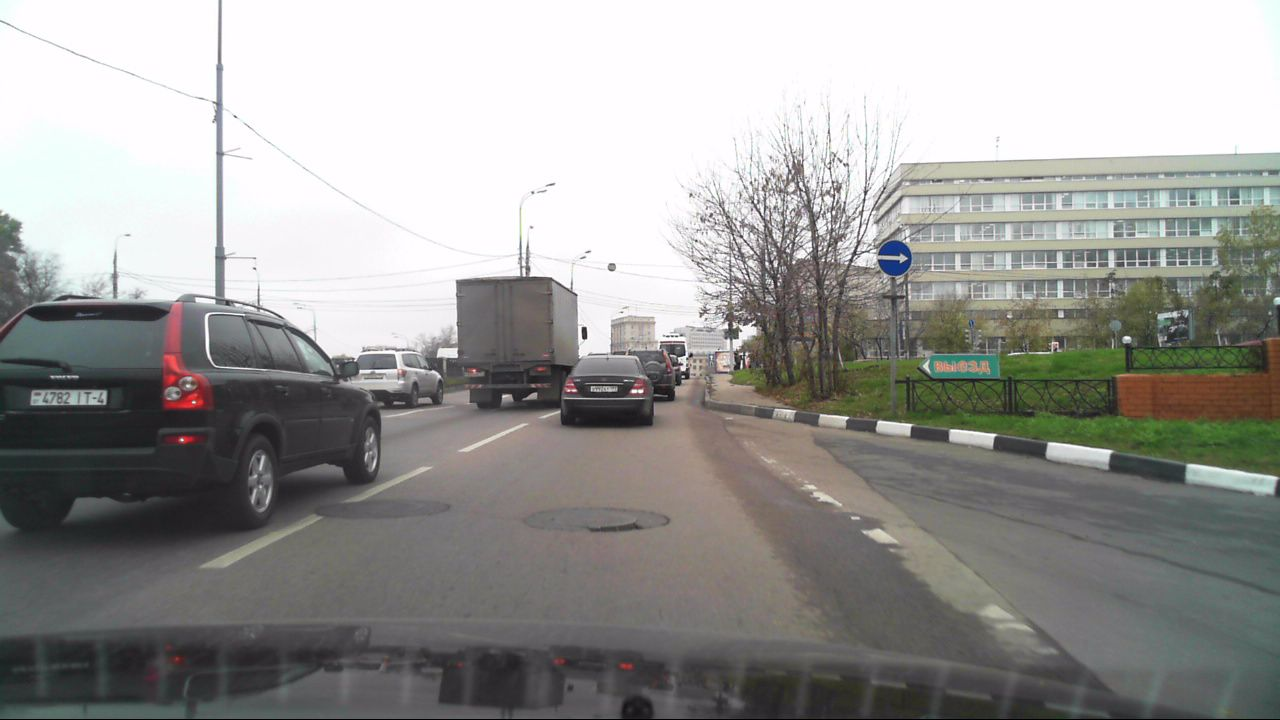Turn Right: (877, 239, 912, 277)
